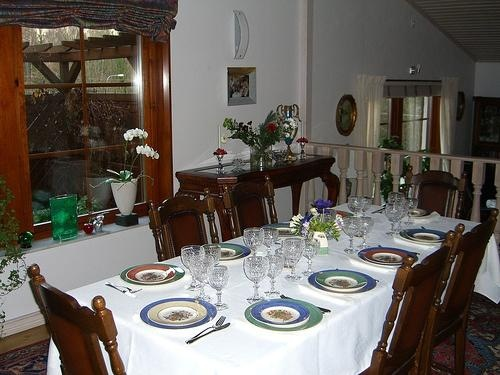chair: (419, 209, 500, 375), (367, 230, 457, 375), (29, 264, 128, 375), (149, 190, 221, 263), (406, 164, 469, 220), (223, 177, 278, 239)
diningtable: (47, 199, 500, 375)
pottedplant: (89, 129, 160, 216)
